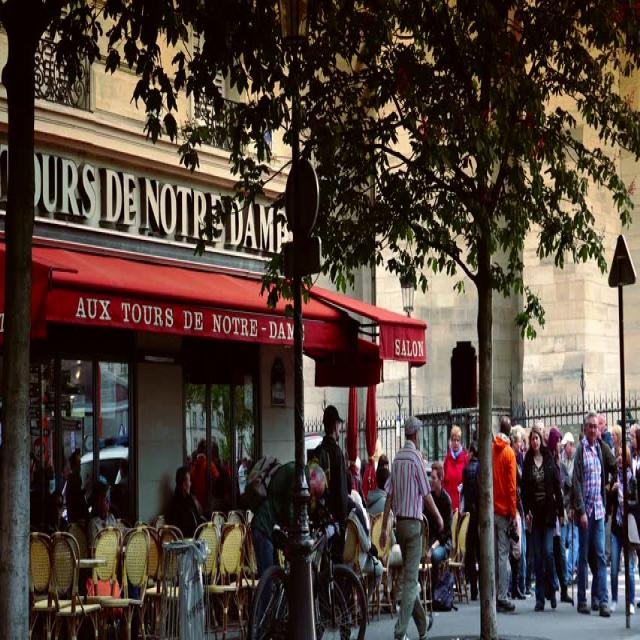body: (377, 413, 443, 639), (248, 457, 326, 624), (519, 423, 565, 612), (571, 406, 611, 618), (309, 403, 351, 565), (490, 413, 518, 612), (608, 441, 638, 616), (421, 460, 454, 603), (546, 425, 572, 604), (460, 440, 482, 603), (560, 428, 582, 584), (340, 449, 365, 582), (190, 434, 230, 506), (168, 464, 204, 543), (441, 424, 470, 516), (627, 422, 640, 610), (88, 477, 120, 548), (64, 449, 90, 527), (41, 486, 71, 538), (112, 453, 131, 518), (28, 447, 56, 488), (608, 423, 622, 484), (375, 452, 392, 495), (597, 412, 614, 447), (237, 456, 249, 496), (511, 422, 526, 450)
